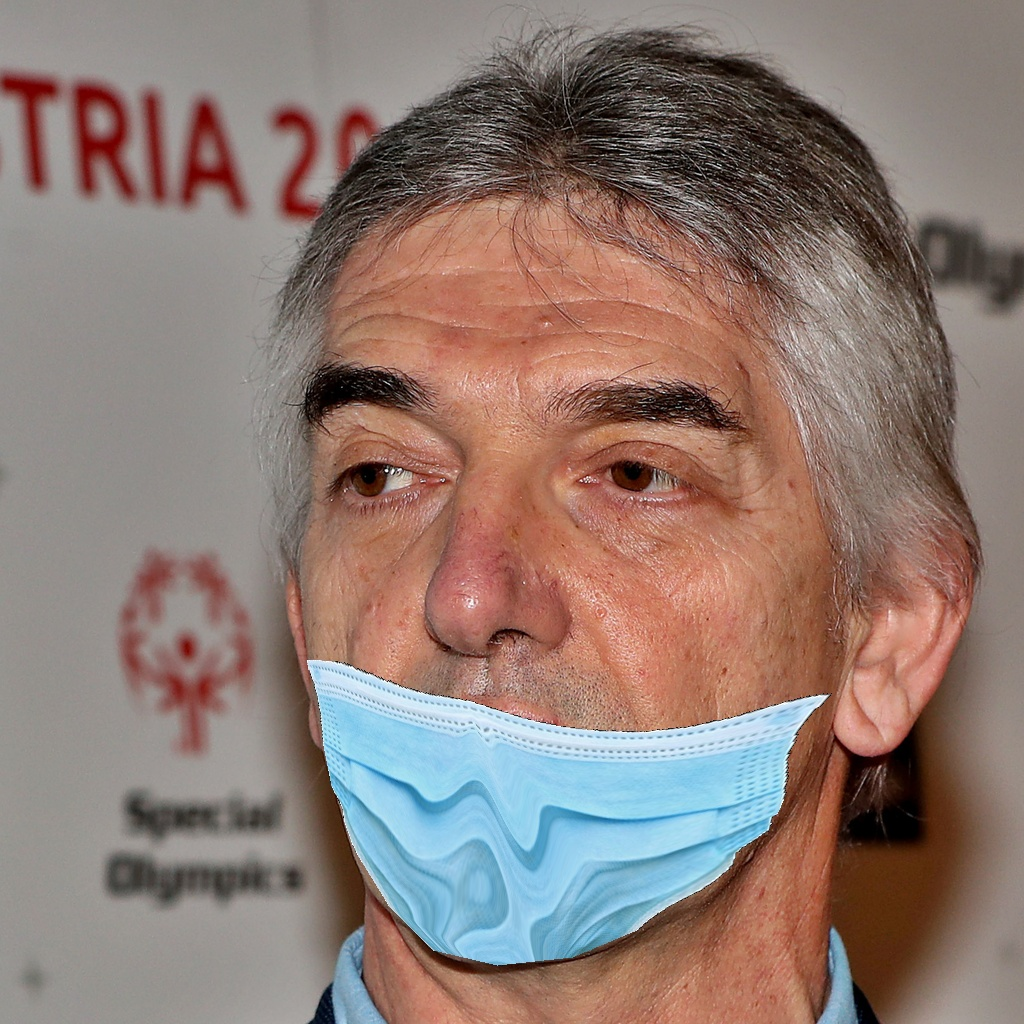Mask_Mouth_Chin: (301, 357, 831, 967)
